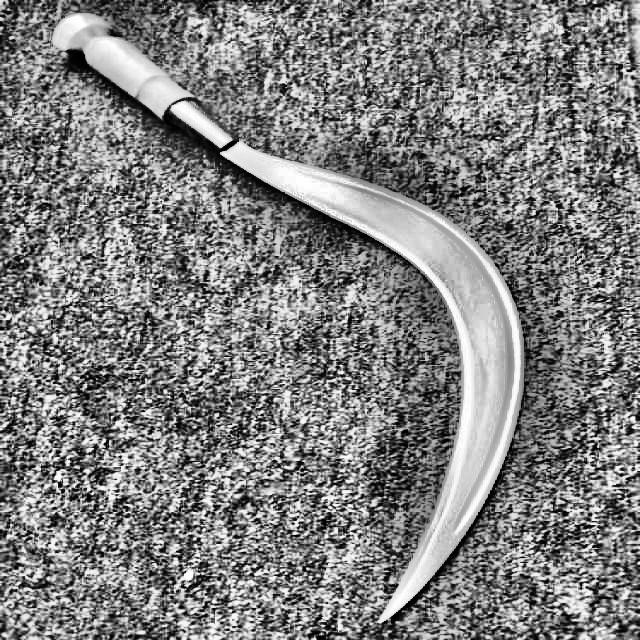celurit: (35, 4, 529, 622)
